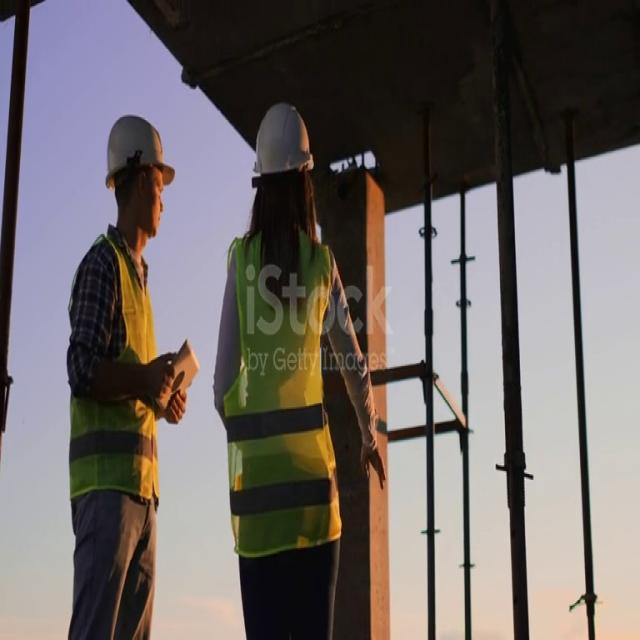capacete: (243, 96, 323, 190), (100, 105, 178, 192)
